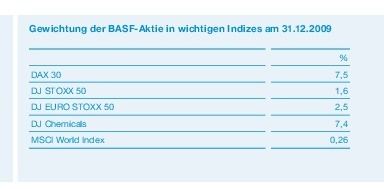table: (0, 0, 384, 189)
